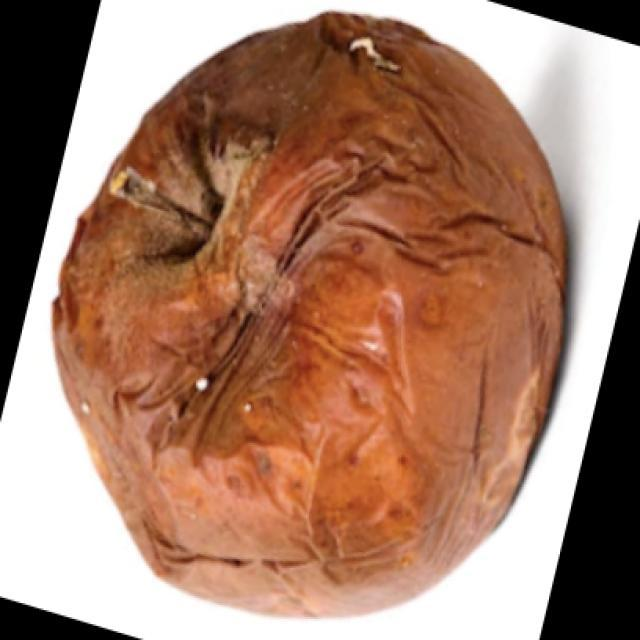Rotten: (100, 39, 585, 624)
